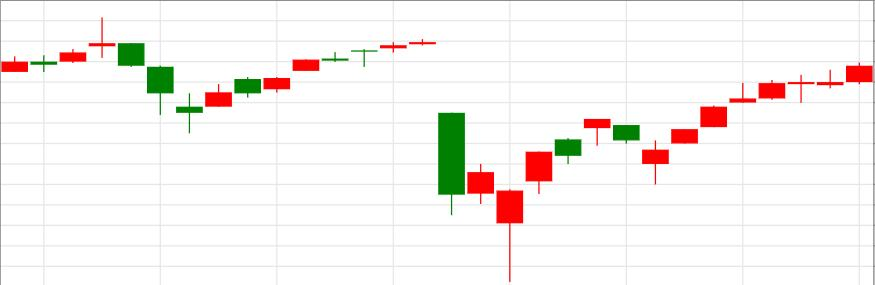hammer_rise: (379, 37, 525, 282)
